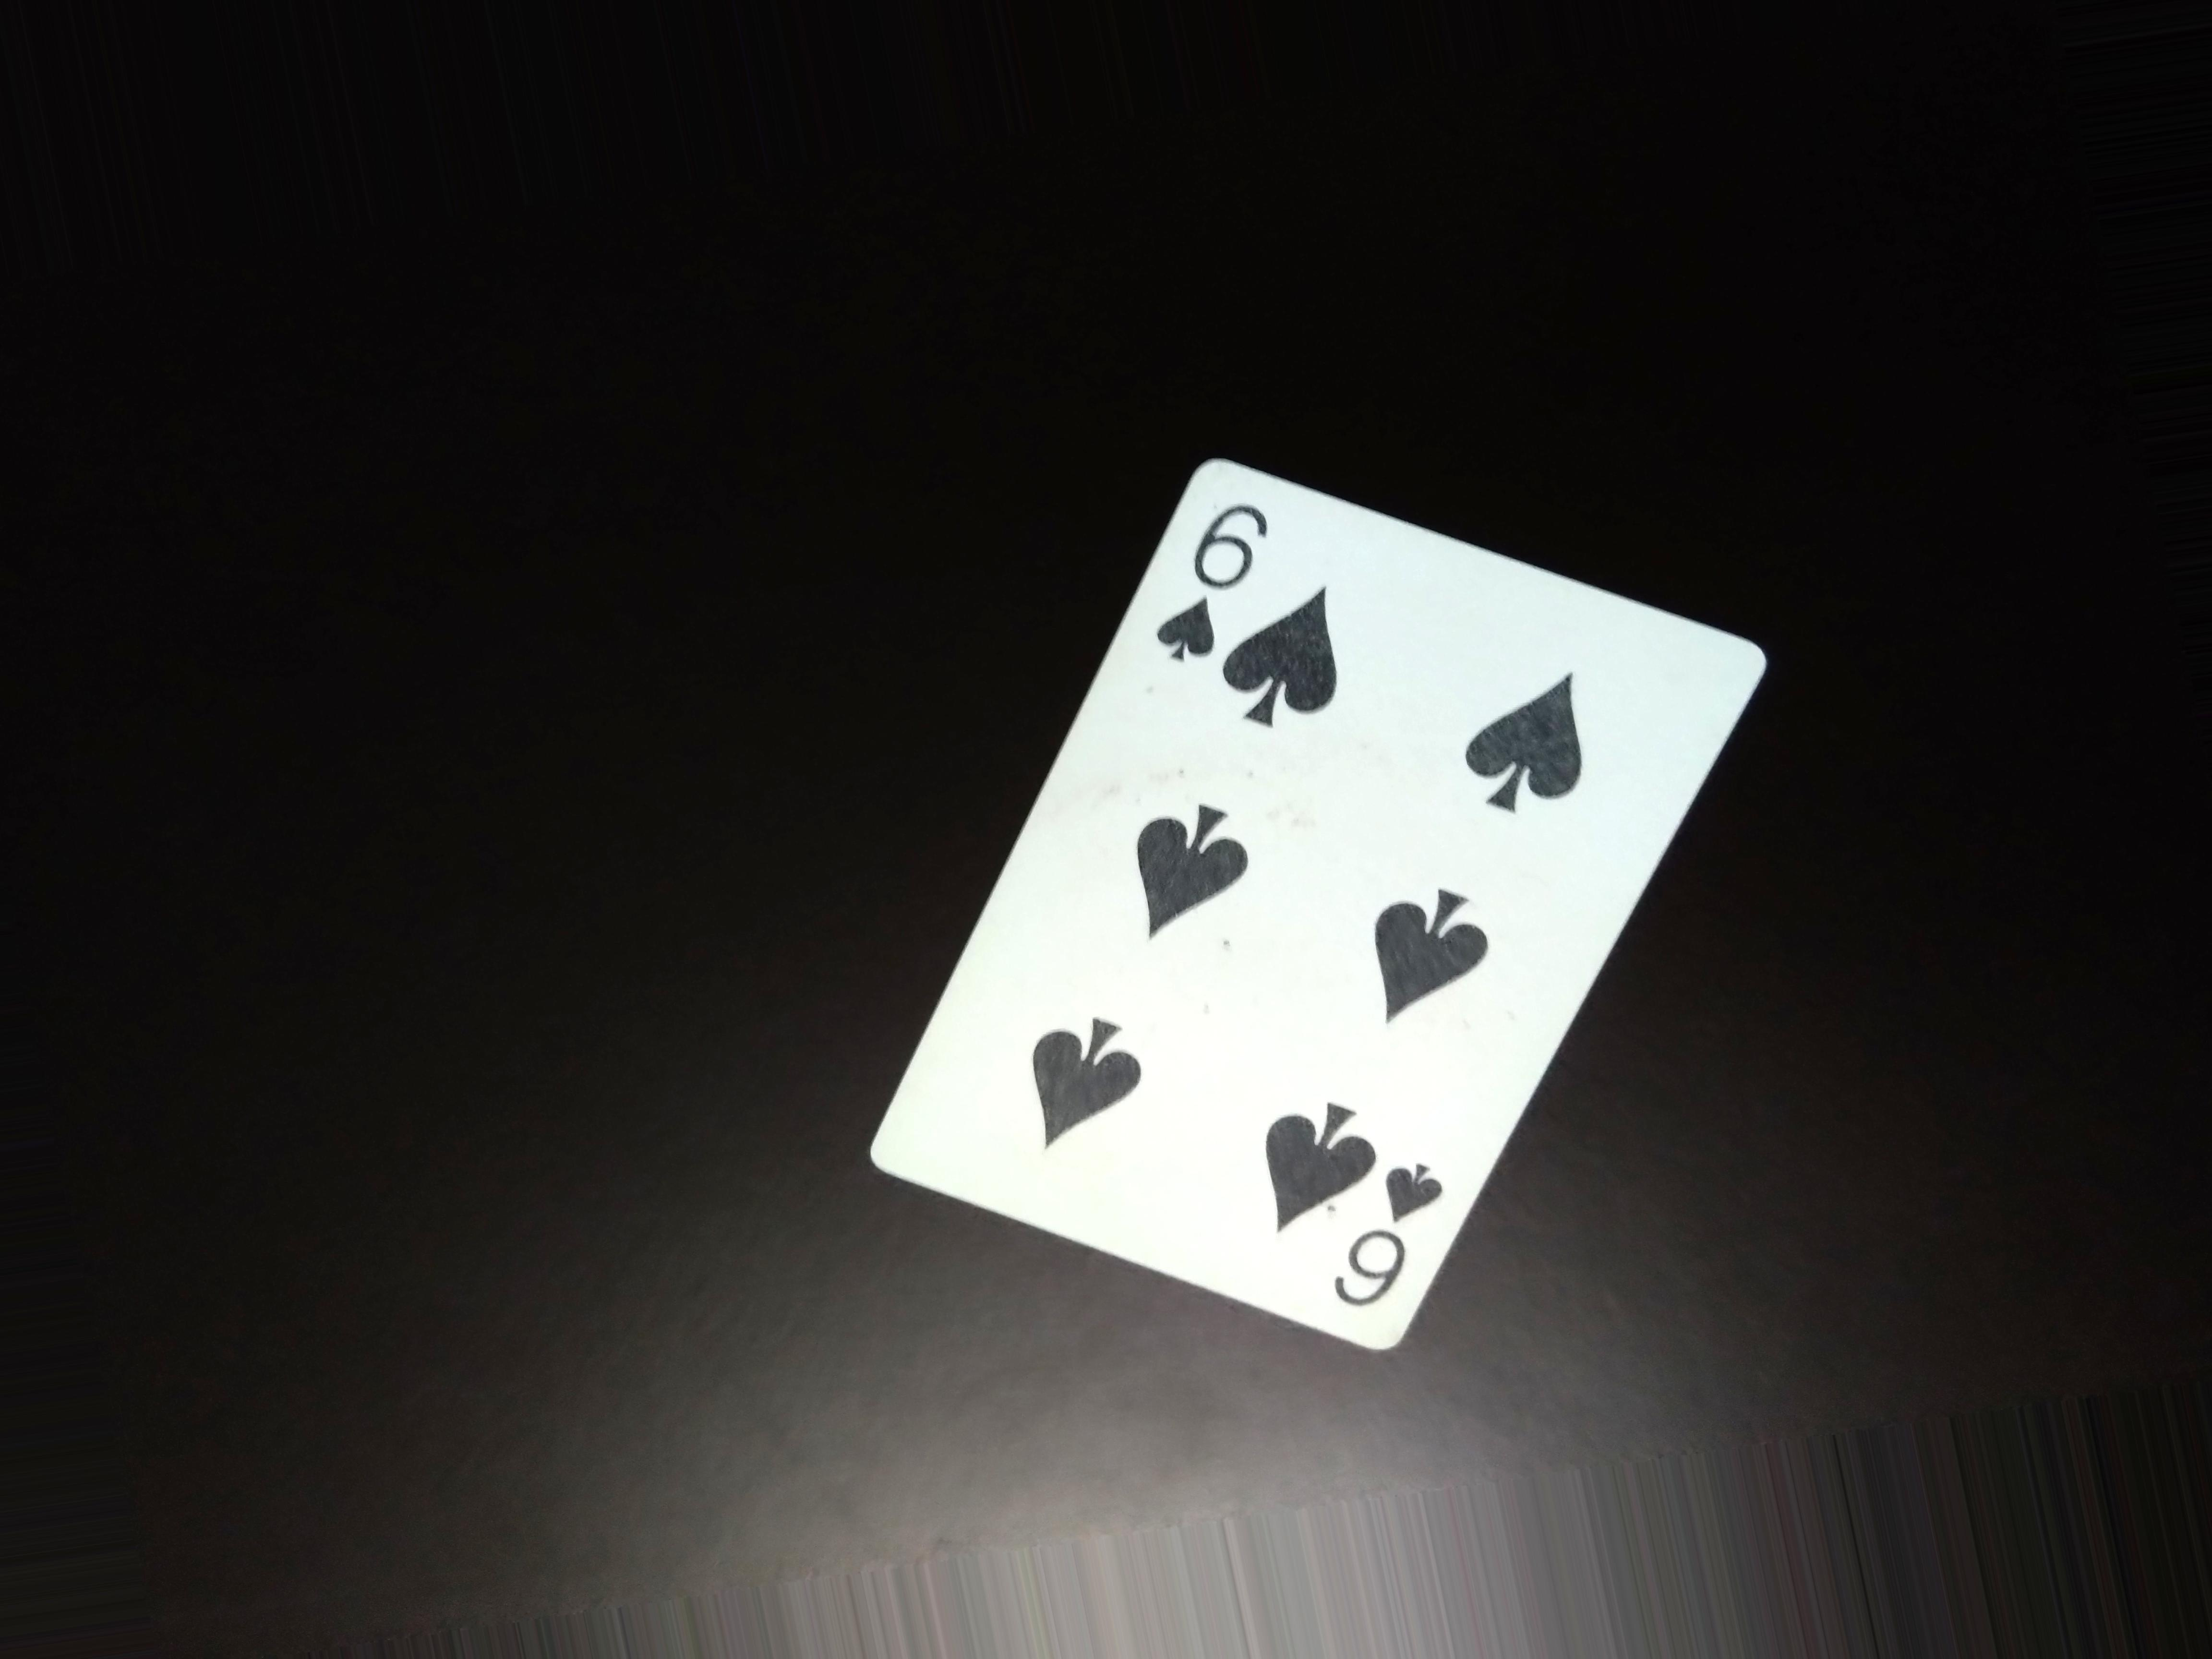6S: (1141, 486, 1277, 674)
